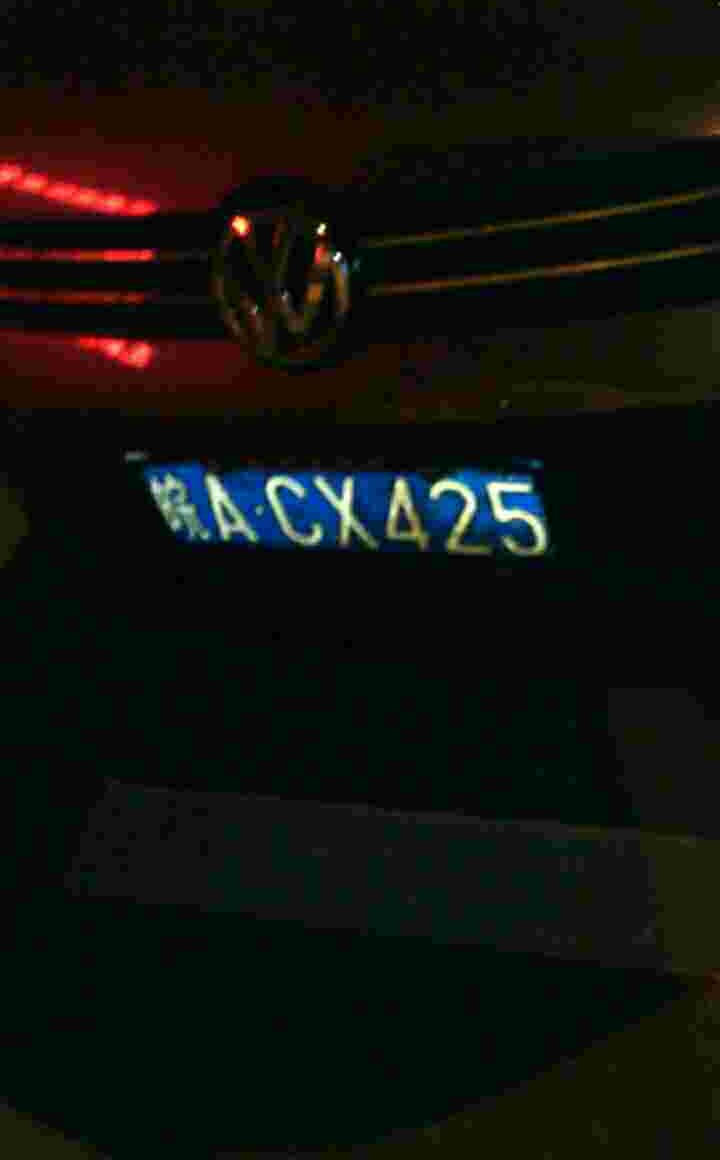license_plate: (139, 457, 546, 564)
